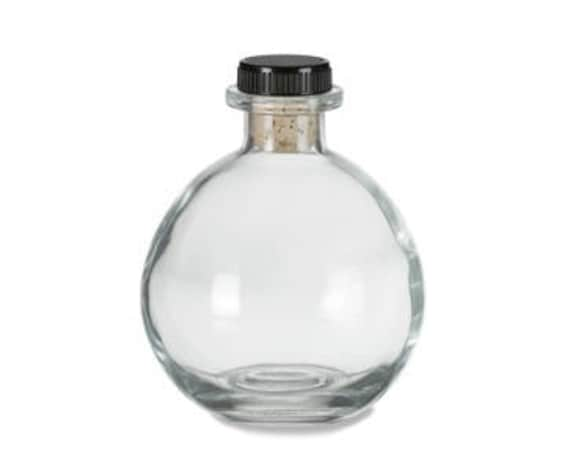glass_bottle: (127, 46, 443, 443)
